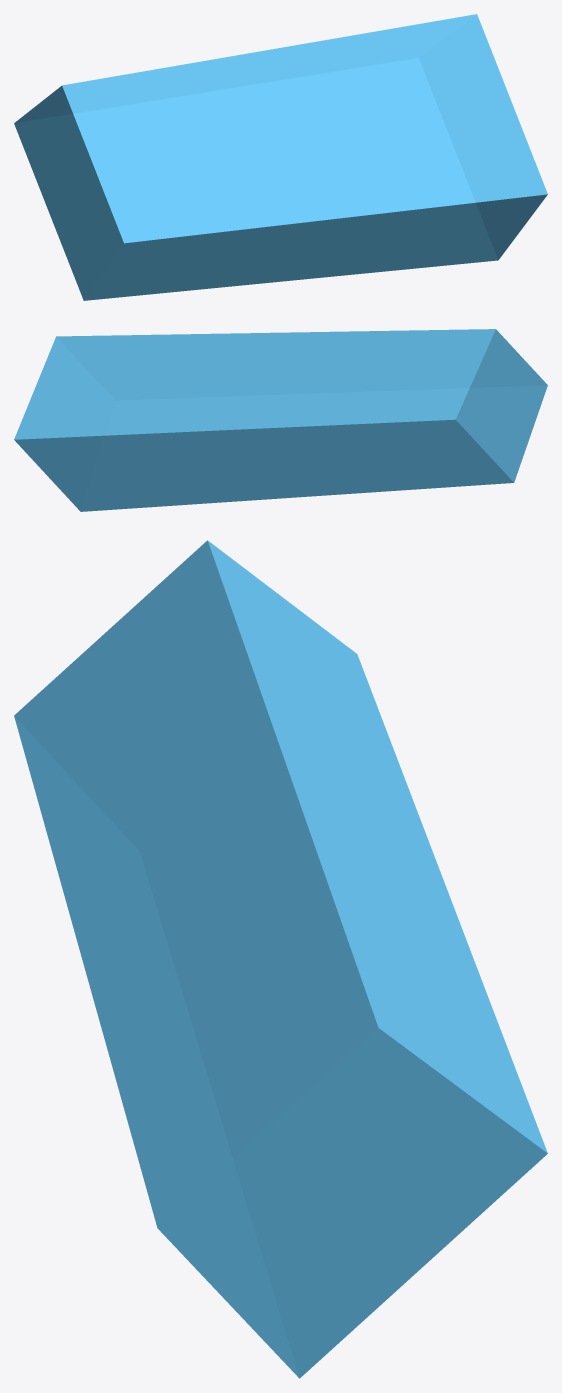
Rendered from Event_421278790_HErechit_36.fbx.
The picture shows the model from 3 angles, top to bottom: view 1: azimuth 30°, elevation 25°; view 2: azimuth 150°, elevation 25°; view 3: azimuth 270°, elevation 25°; orthographic projection. The views are drawn at different scales.
Visible parts, largest first — view 1: Model; view 2: Model; view 3: Model.
Boxes of the visible parts, box(x1,y1,x2,y2) form: Model: box(14, 14, 547, 300); Model: box(14, 329, 547, 511); Model: box(14, 540, 547, 1378).
Size of the model in its own units: 1.57 by 0.9933 by 0.9933.
